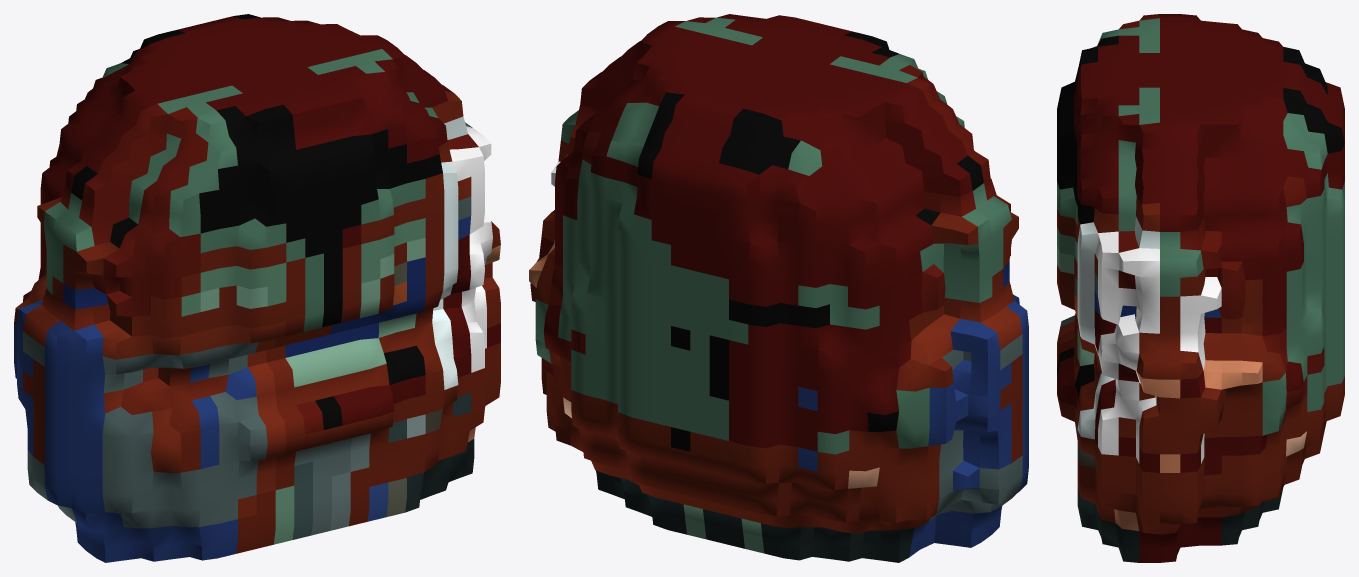
Rendered from Icon_703_02.obj.
The picture shows the model from 3 angles, left to right: view 1: azimuth 30°, elevation 25°; view 2: azimuth 150°, elevation 25°; view 3: azimuth 270°, elevation 25°; orthographic projection. The views are drawn at different scales.
Bounding box in the file's own units: 2.4 × 2.2 × 1.4.
